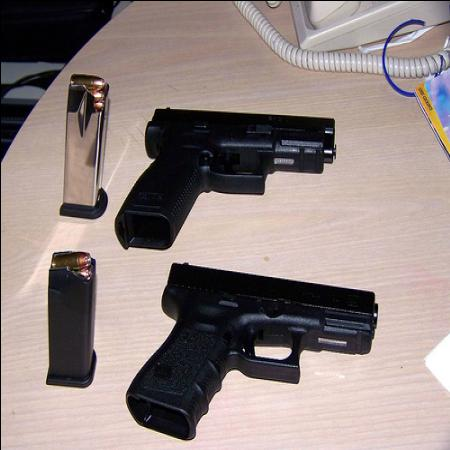Pistol: (127, 260, 378, 434), (115, 106, 338, 252)
